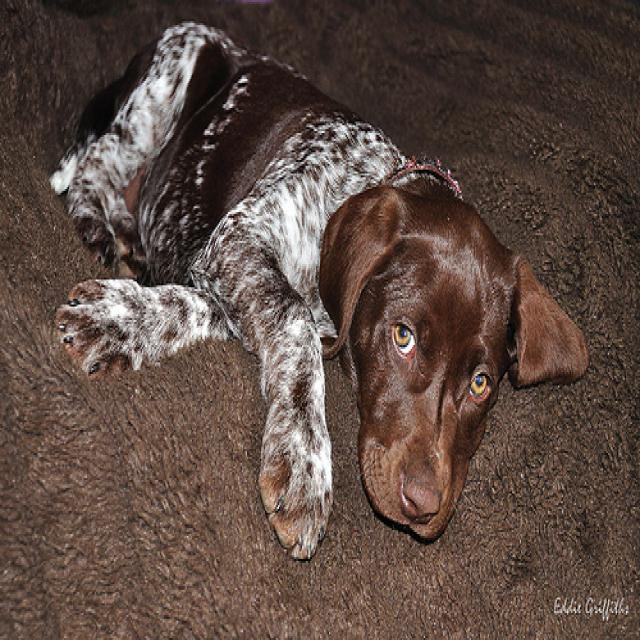dog-german_shorthaired: (44, 12, 593, 567)
